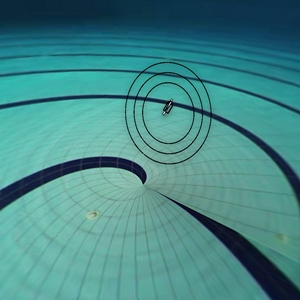circle: (107, 44, 228, 191)
submarine: (157, 95, 179, 121)
